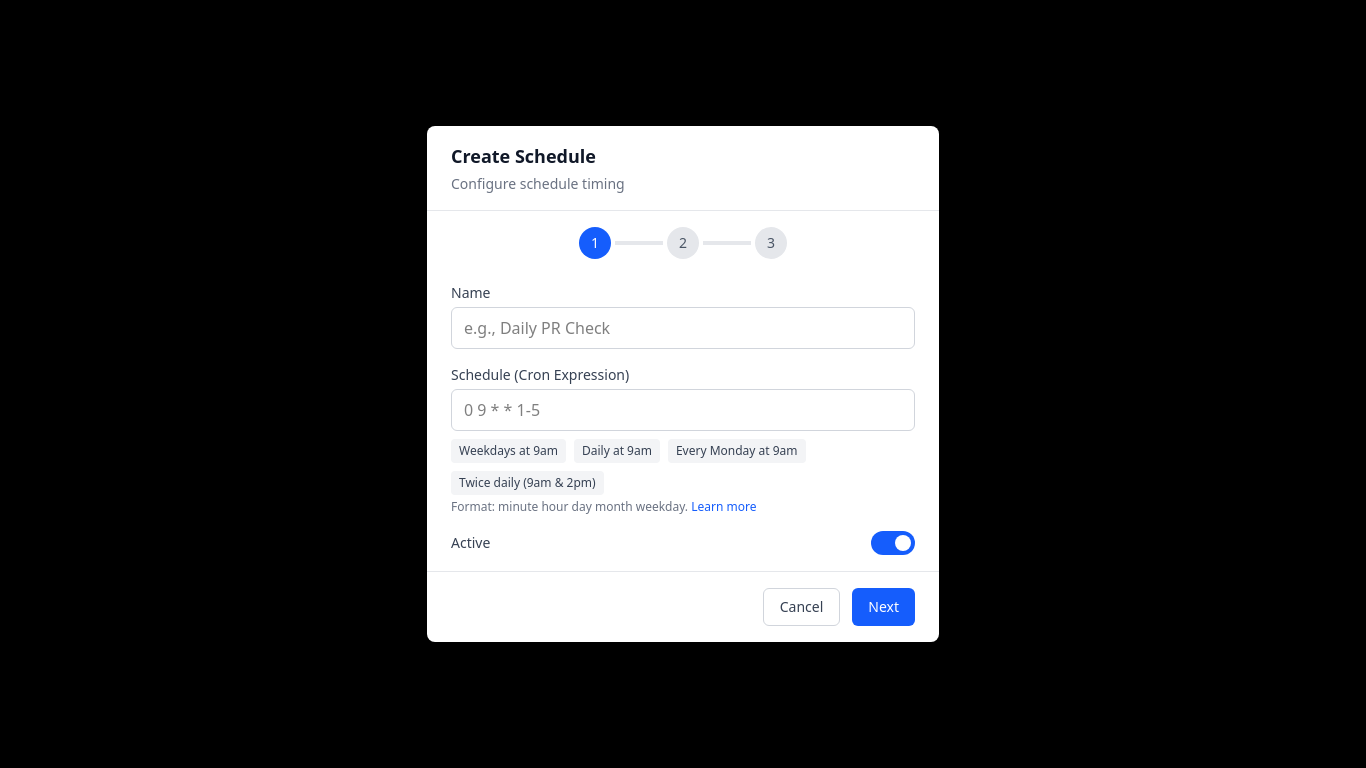
Test: ScheduleForm › Step 1: Schedule Details › applies cron preset when clicked
Click the button "Weekdays at 9am": (508, 451) [451,439,566,463]
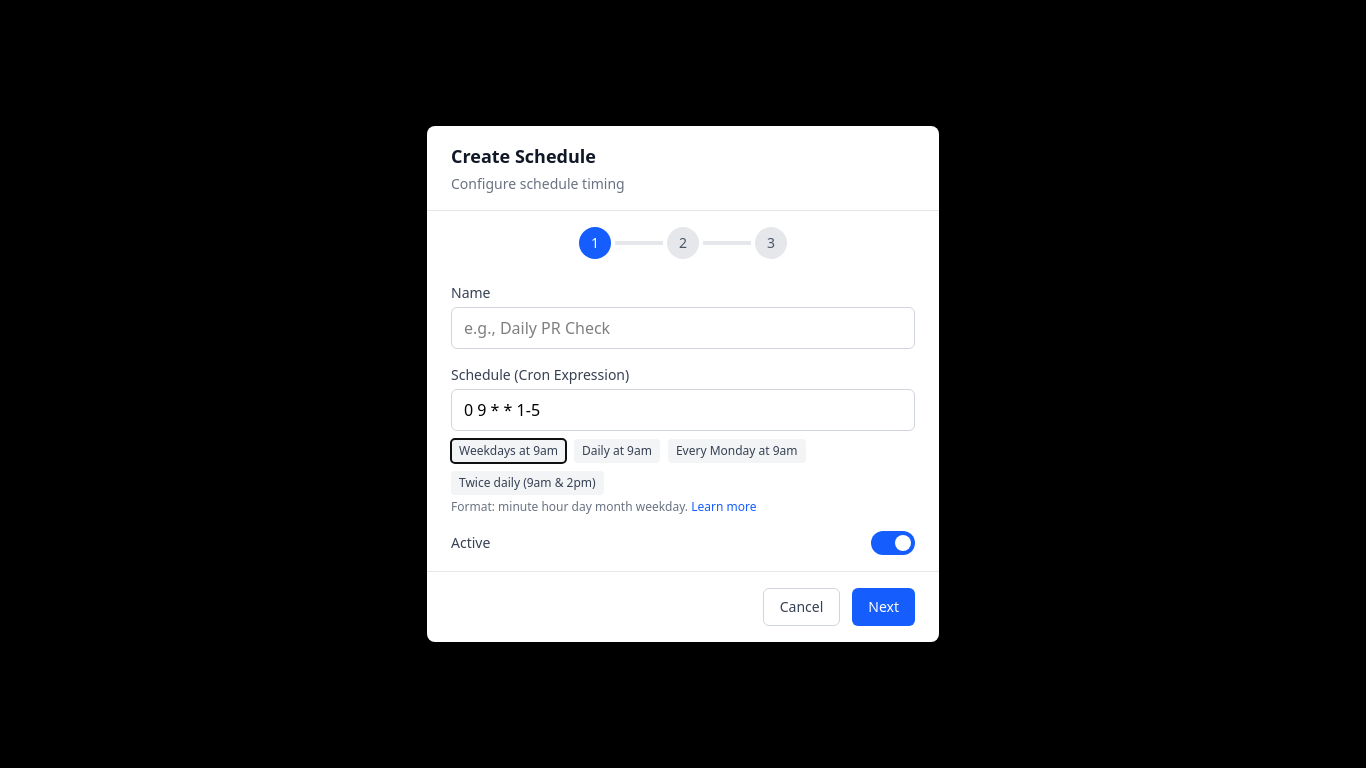
Result: the field labelled "Schedule (Cron Expression)" holds "0 9 * * 1-5" at [451,389,915,431]
